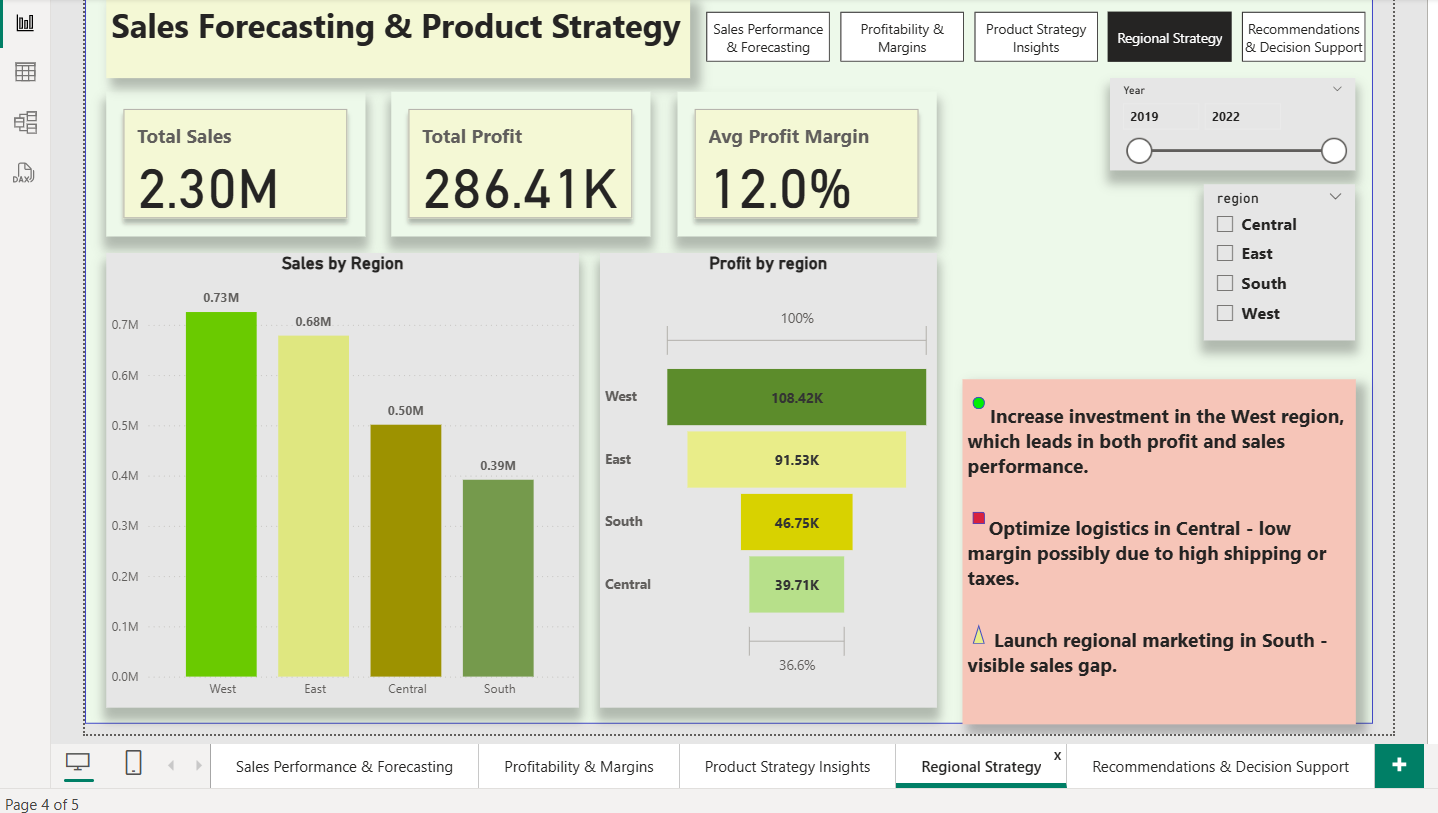

Layout of this report page (visuals, bound fields, positions):
{"tool":"powerbi","page":{"name":"Regional Strategy","canvas":[1280,720],"ordinal":3},"visuals":[{"type":"shape","box":[0,0,1260,710],"z":0},{"type":"group","id":"g1","title":"Group 4","box":[858.4,373,385.2,337.5],"z":0,"group":"g5"},{"type":"group","id":"g2","title":"Group 3","box":[858.4,373,385.2,337.5],"z":0,"group":"g1"},{"type":"group","id":"g3","title":"Group 2","box":[858.4,373,385.2,337.5],"z":0,"group":"g2"},{"type":"group","id":"g4","title":"Group 1","box":[858.4,373,385.2,337.5],"z":0,"group":"g3"},{"type":"textbox","box":[858.4,373,385.2,337.5],"z":0,"group":"g4"},{"type":"cardVisual","fields":{"Data":["Superstore-Cleaned_Data.Total Sales"]},"box":[20.6,91.9,253.9,141.3],"z":1000},{"type":"shape","box":[868.2,390.1,12.2,12.2],"z":1000,"group":"g2"},{"type":"shape","box":[868.2,502.6,12.2,12.2],"z":1000,"group":"g1"},{"type":"shape","box":[868.2,612.7,12.2,19.6],"z":1000,"group":"g5"},{"type":"textbox","box":[20.6,0,570.8,78.2],"z":2000},{"type":"cardVisual","fields":{"Data":["Superstore-Cleaned_Data.Total Profit"]},"box":[299.1,91.9,253.9,141.3],"z":3000},{"type":"cardVisual","fields":{"Data":["Superstore-Cleaned_Data.Avg Profit Margin"]},"box":[579.1,91.9,253.9,141.3],"z":4000},{"type":"pageNavigator","box":[607.9,13.7,649.1,49.4],"z":5000},{"type":"clusteredColumnChart","title":"Sales by Region","fields":{"Y":["Superstore-Cleaned_Data.Total Sales"],"Category":["Superstore-Cleaned_Data.region"]},"box":[20.6,249.7,462.4,444.6],"z":6000},{"type":"funnel","title":" Profit by region","fields":{"Category":["Superstore-Cleaned_Data.region"],"Y":["Superstore-Cleaned_Data.Total Profit"]},"box":[503.6,249.7,329.3,444.6],"z":7000},{"type":"slicer","fields":{"Values":["Superstore-Cleaned_Data.Year"]},"box":[1002.9,78.6,240,90],"z":8000},{"type":"slicer","fields":{"Values":["Superstore-Cleaned_Data.region"]},"box":[1094.4,182.2,148,152.9],"z":9000},{"type":"group","id":"g5","title":"Group 5","box":[858.4,373,385.2,337.5],"z":10010}]}

Visuals, with their boxes on the page's 1280x720 design canvas (x1, y1, x2, y2). These are canvas units, not pixel positions in the 1438x813 screenshot, which may show the page scaled, cropped or inside an application window:
shape: (0, 0, 1260, 710)
"Group 4" group: (858, 373, 1244, 710)
"Group 3" group: (858, 373, 1244, 710)
"Group 2" group: (858, 373, 1244, 710)
"Group 1" group: (858, 373, 1244, 710)
textbox: (858, 373, 1244, 710)
cardVisual - Superstore-Cleaned_Data.Total Sales: (21, 92, 274, 233)
shape: (868, 390, 880, 402)
shape: (868, 503, 880, 515)
shape: (868, 613, 880, 632)
textbox: (21, 0, 591, 78)
cardVisual - Superstore-Cleaned_Data.Total Profit: (299, 92, 553, 233)
cardVisual - Superstore-Cleaned_Data.Avg Profit Margin: (579, 92, 833, 233)
pageNavigator: (608, 14, 1257, 63)
"Sales by Region" clusteredColumnChart: (21, 250, 483, 694)
" Profit by region" funnel: (504, 250, 833, 694)
slicer - Superstore-Cleaned_Data.Year: (1003, 79, 1243, 169)
slicer - Superstore-Cleaned_Data.region: (1094, 182, 1242, 335)
"Group 5" group: (858, 373, 1244, 710)
